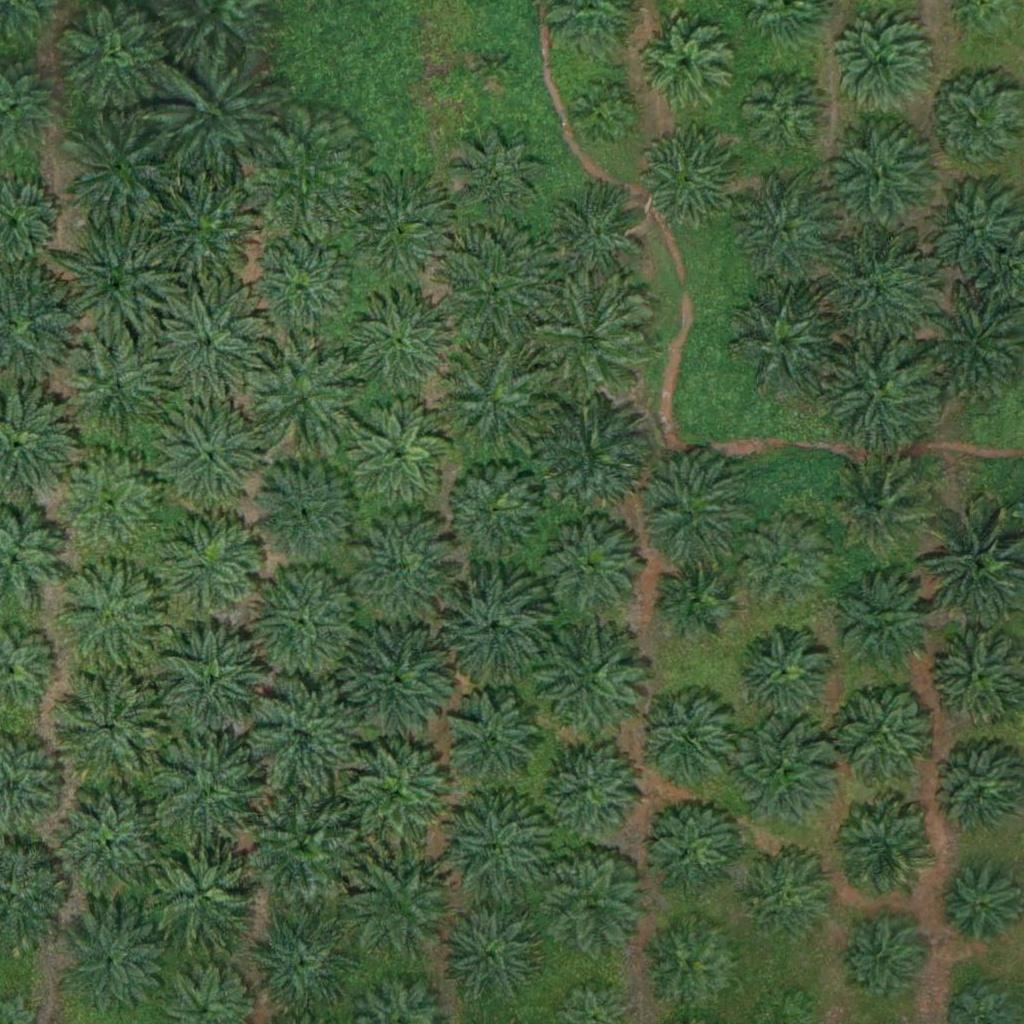Kelapa_Sawit: (250, 118, 363, 232), (162, 57, 275, 171), (531, 281, 644, 395), (635, 455, 748, 569), (827, 676, 940, 790), (725, 715, 838, 829), (56, 909, 169, 1023), (827, 124, 940, 237), (57, 562, 170, 675), (49, 671, 162, 784), (142, 172, 255, 285), (245, 234, 358, 347), (249, 341, 362, 454), (246, 455, 359, 568), (349, 509, 462, 622), (341, 619, 454, 732), (820, 235, 933, 348), (442, 794, 555, 907), (343, 740, 456, 853), (154, 739, 267, 852), (145, 838, 258, 951), (54, 790, 167, 903), (340, 166, 452, 280), (344, 281, 456, 395), (439, 233, 551, 347), (436, 341, 548, 455), (536, 394, 648, 508), (533, 509, 645, 623), (441, 121, 553, 234), (58, 1, 170, 114), (65, 115, 177, 228), (60, 230, 172, 343), (62, 332, 174, 445), (151, 291, 263, 404), (152, 402, 264, 515), (157, 626, 269, 739), (245, 569, 357, 682), (246, 681, 358, 794), (437, 562, 549, 675), (535, 627, 647, 740), (729, 286, 841, 399), (825, 339, 937, 452), (830, 570, 942, 683), (345, 851, 457, 964), (248, 791, 360, 904), (244, 903, 356, 1016), (835, 460, 935, 561), (834, 9, 934, 110), (735, 183, 835, 284), (635, 10, 735, 111), (637, 128, 737, 229), (58, 453, 158, 554), (158, 513, 258, 614), (348, 400, 448, 501), (443, 691, 543, 792), (543, 187, 643, 288), (742, 845, 842, 946), (640, 794, 740, 895), (644, 913, 744, 1014), (540, 739, 640, 840), (541, 851, 641, 952), (441, 900, 541, 1001), (444, 457, 544, 557), (633, 690, 733, 790), (735, 513, 835, 613), (732, 625, 832, 725), (832, 800, 932, 900), (739, 73, 827, 162), (931, 186, 1018, 274), (838, 916, 925, 1004), (656, 559, 731, 635), (571, 82, 634, 145), (473, 47, 510, 85)
